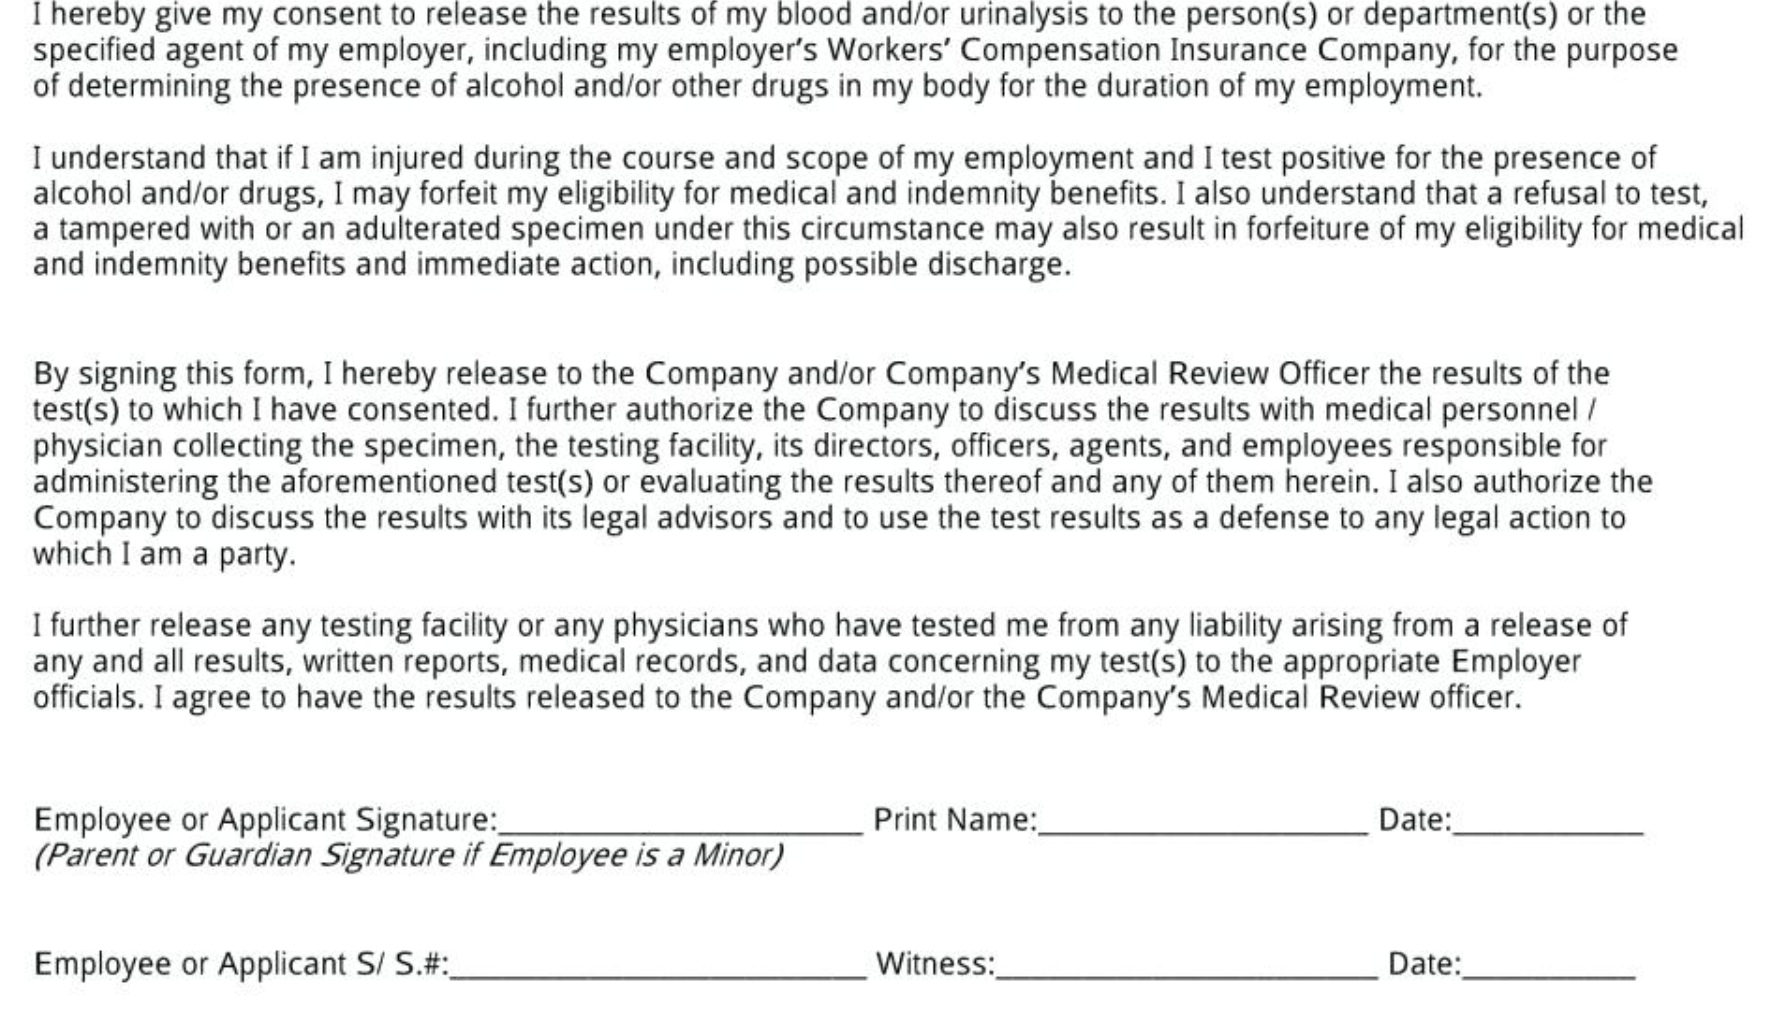textline: (442, 933, 873, 986), (989, 933, 1386, 987), (492, 795, 872, 842), (1032, 796, 1378, 844), (1453, 933, 1646, 989), (1446, 797, 1653, 843)
